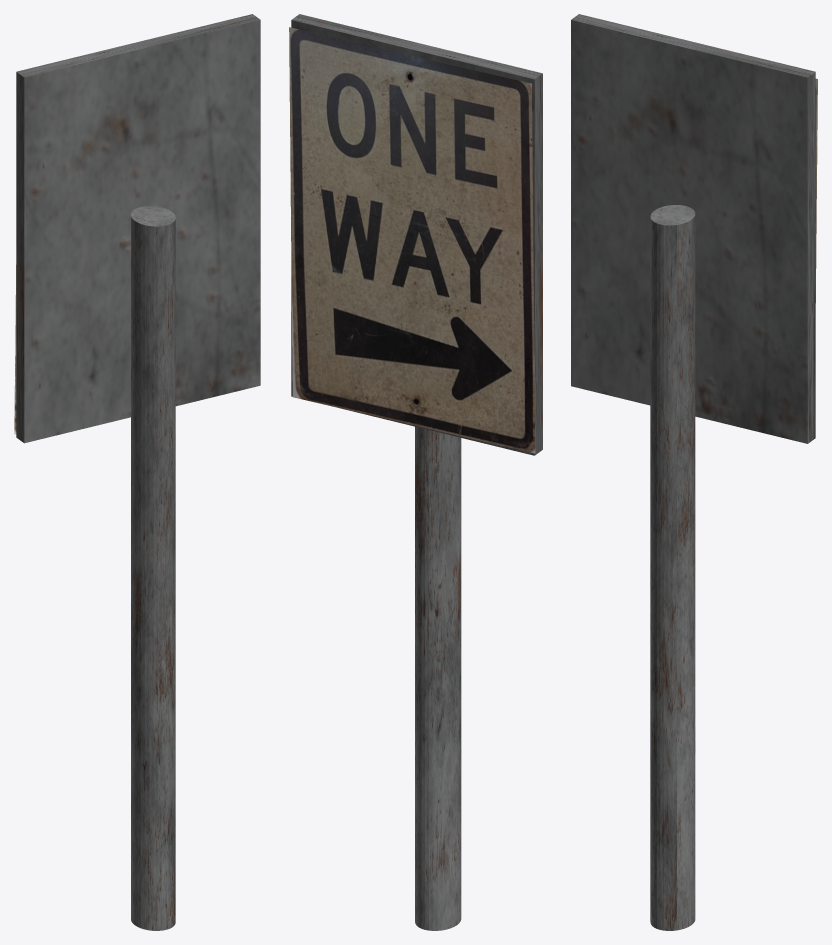
File: OneWaySign.fbx
The picture shows the model from 3 angles, left to right: view 1: azimuth 30°, elevation 25°; view 2: azimuth 150°, elevation 25°; view 3: azimuth 330°, elevation 25°; orthographic projection. The views are drawn at different scales.
Parts seen in each view (by area): view 1: Plane; view 2: Plane; view 3: Plane.
Boxes of the visible parts, <box> form: Plane: <box>14,14,260,930</box>; Plane: <box>289,14,542,930</box>; Plane: <box>571,14,817,930</box>.
Size of the model in its own units: 65.77 by 226 by 16.6.
Materials: 3 (3 with a texture image).
